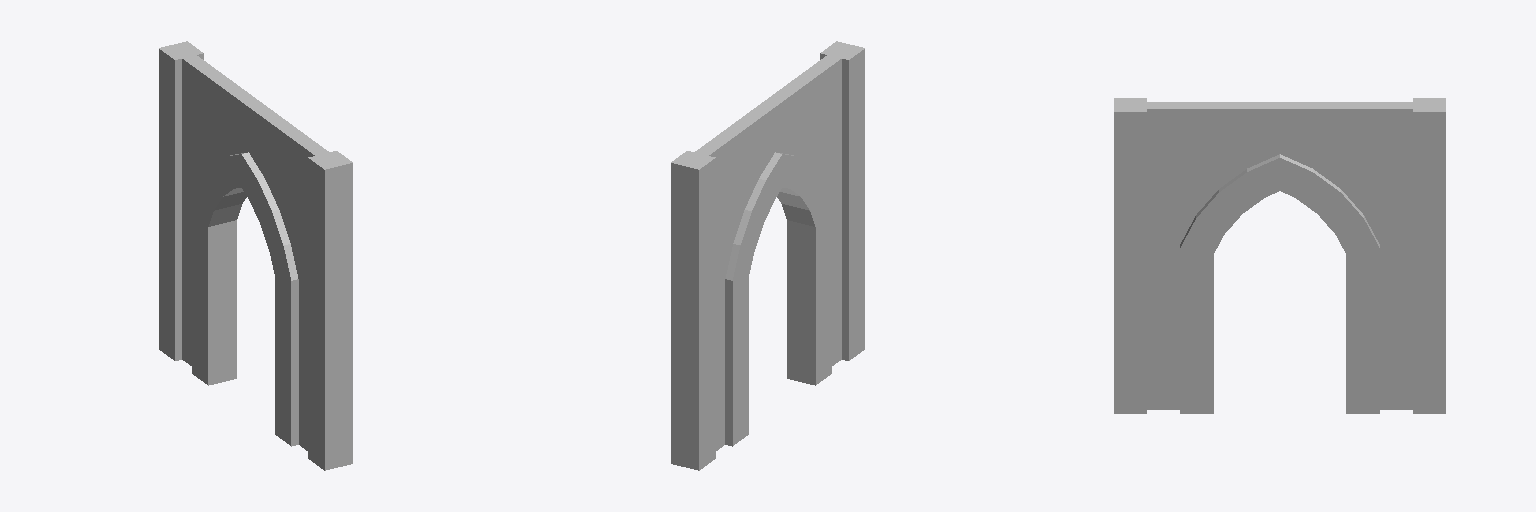
File: wall-doorway-round.obj
The picture shows the model from 3 angles: view 1: azimuth 30°, elevation 25°; view 2: azimuth 150°, elevation 25°; view 3: azimuth 270°, elevation 25°; orthographic projection.
Visible parts, largest first — view 1: wall-doorway-round; view 2: wall-doorway-round; view 3: wall-doorway-round.
Boxes of the visible parts, <box> form: wall-doorway-round: <box>159,41,352,470</box>; wall-doorway-round: <box>671,41,864,470</box>; wall-doorway-round: <box>1114,98,1445,413</box>.
Size of the model in its own units: 0.1 by 1 by 1.